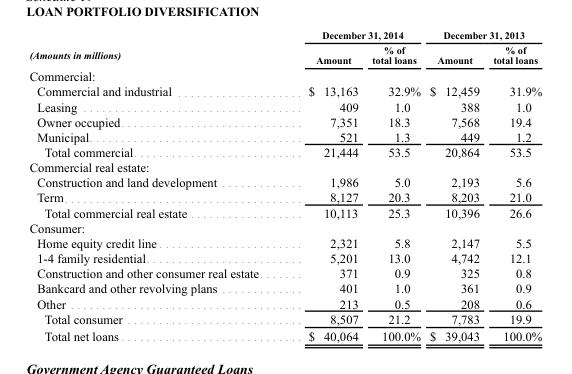table: (28, 28, 541, 342)
table column: (28, 28, 284, 342), (284, 28, 364, 342), (424, 28, 485, 342), (364, 28, 424, 342), (485, 28, 541, 342)
table column header: (28, 28, 541, 67)
table projected row header: (28, 67, 541, 83), (28, 219, 541, 235), (28, 159, 541, 174)
table row: (28, 42, 541, 67), (28, 310, 541, 327), (28, 67, 541, 83), (28, 113, 541, 129), (28, 219, 541, 235), (28, 83, 541, 98), (28, 98, 541, 113), (28, 129, 541, 144), (28, 144, 541, 159), (28, 159, 541, 174), (28, 174, 541, 189), (28, 189, 541, 204), (28, 204, 541, 219), (28, 235, 541, 250), (28, 250, 541, 265), (28, 265, 541, 280), (28, 280, 541, 295), (28, 295, 541, 310), (28, 327, 541, 342), (28, 28, 541, 42)
table spanning cell: (28, 28, 284, 67), (284, 28, 424, 42), (424, 28, 541, 42)
